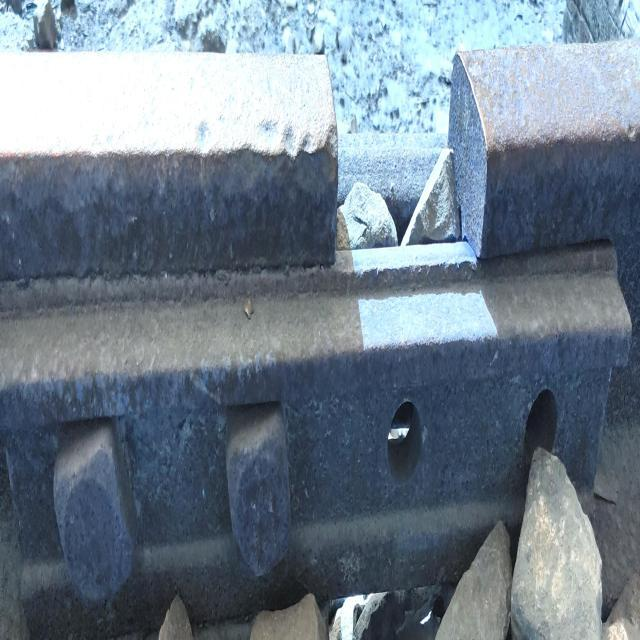Defective Joint: (0, 250, 638, 638)
